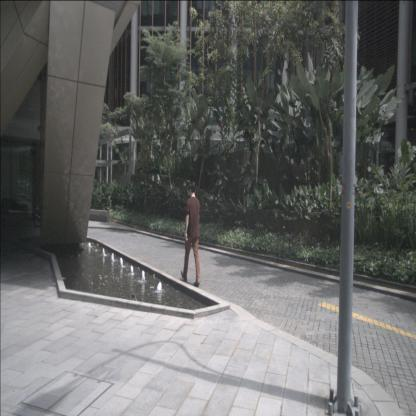human-pedestrian-adult: (181, 181, 200, 286)
vehicle-motorcycle: (33, 199, 56, 227)
